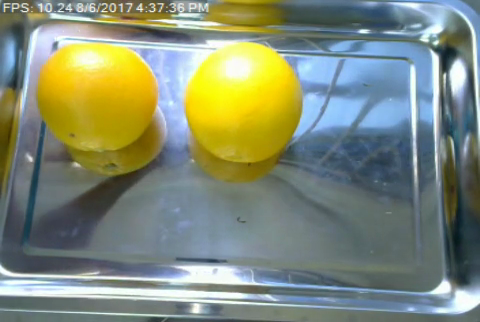Orange: (183, 42, 303, 162), (36, 43, 159, 151)
